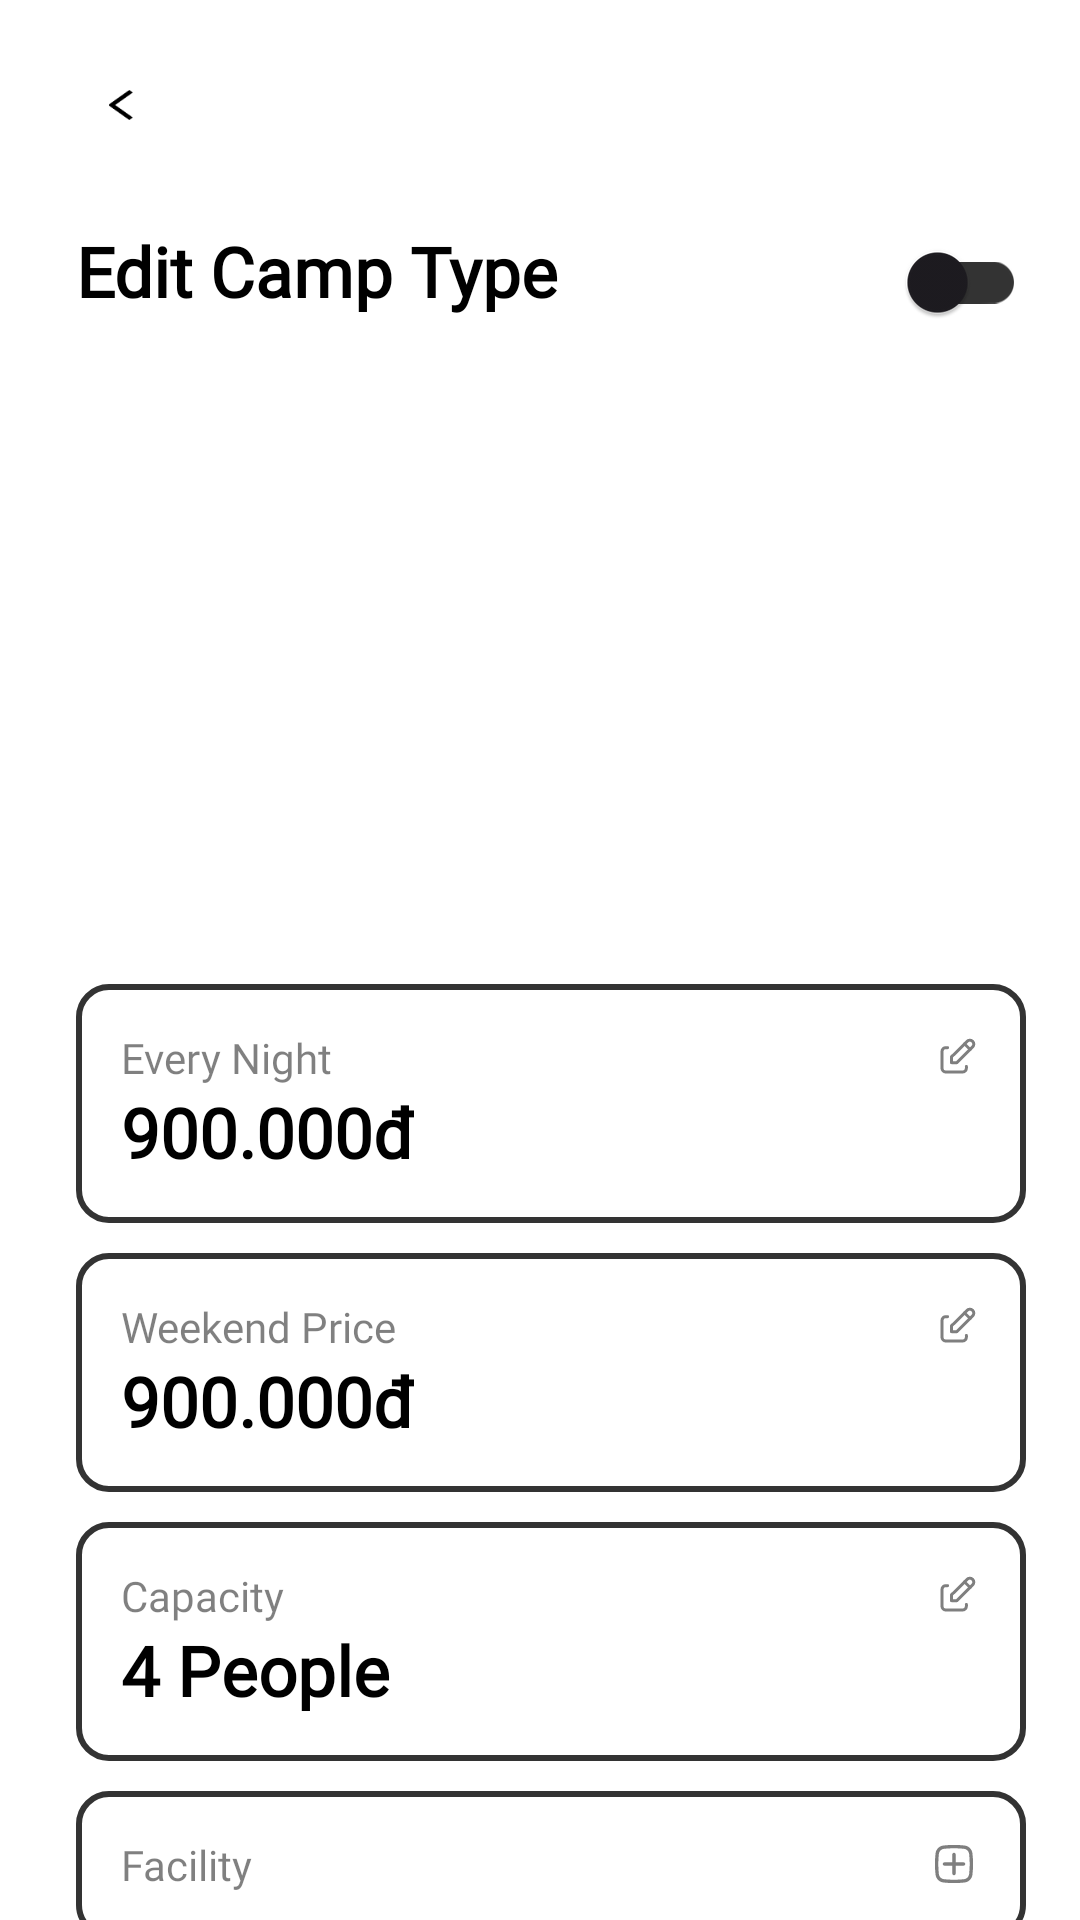

Point at icon controls on the screen. Image size 1080*1920, points as (x=x, y=y).
Go back: (x=121, y=105)
